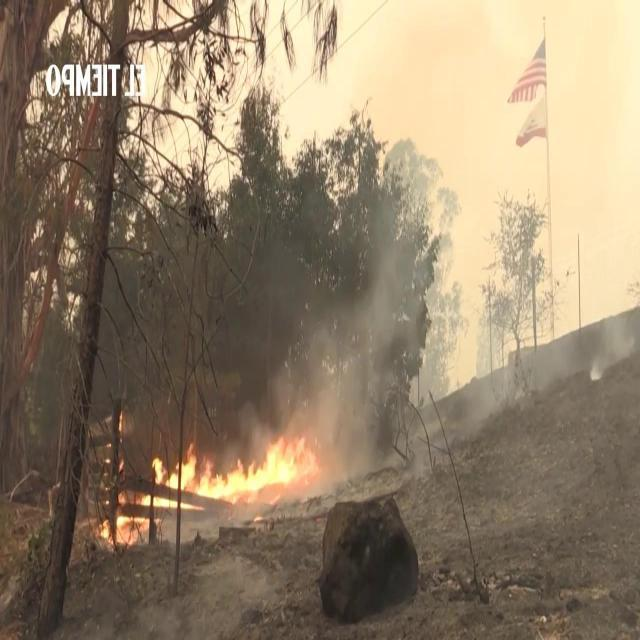Fire: (104, 404, 321, 504)
